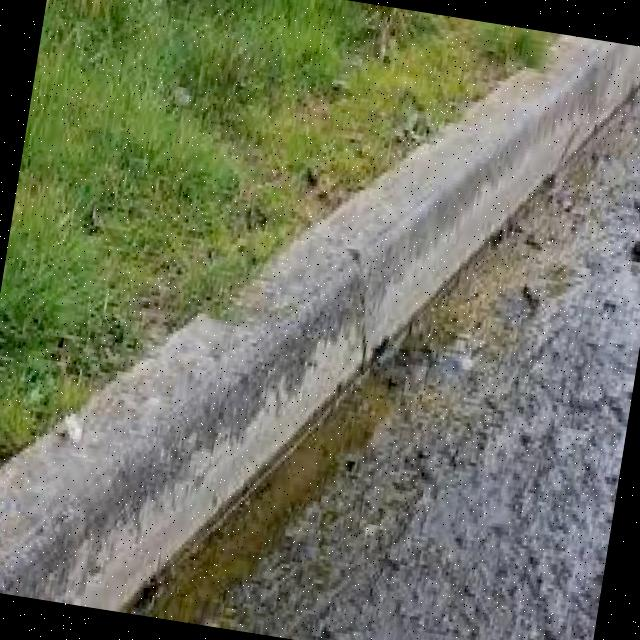curb: (1, 288, 327, 638), (223, 190, 485, 423), (354, 99, 560, 298), (515, 30, 640, 168)
